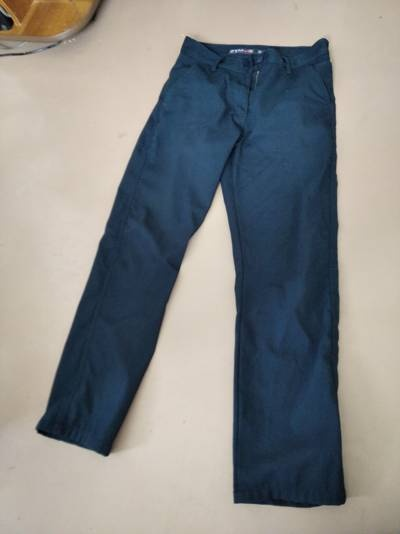Pants: (30, 19, 371, 502)
